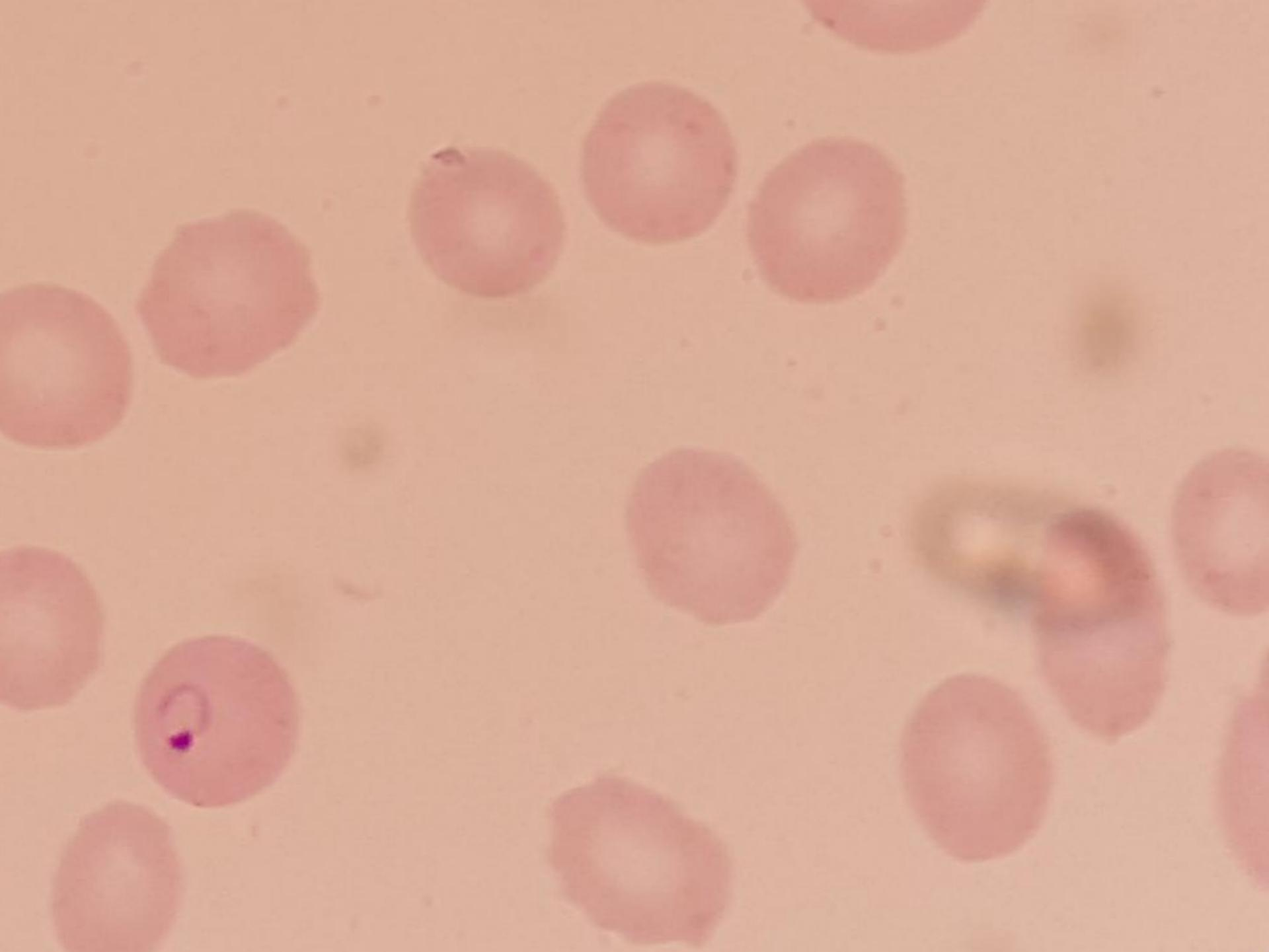Infected: (135, 626, 301, 811)
Uninfected: (549, 778, 734, 948), (625, 450, 796, 623), (137, 208, 315, 373), (905, 677, 1051, 862), (749, 132, 906, 302), (585, 81, 737, 240), (410, 146, 565, 296), (0, 286, 134, 447), (48, 798, 186, 949), (0, 545, 101, 710), (1169, 454, 1269, 615)
